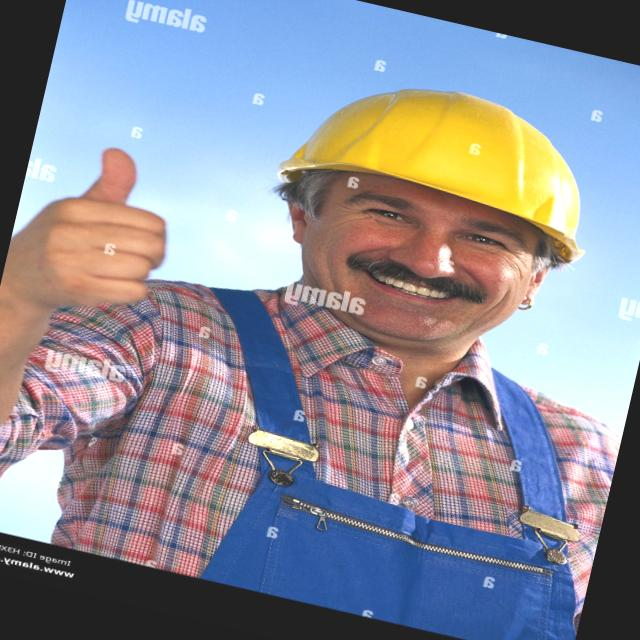helmet: (270, 55, 616, 246)
no-goggles: (303, 189, 546, 267)
no-vest: (46, 263, 633, 640)
